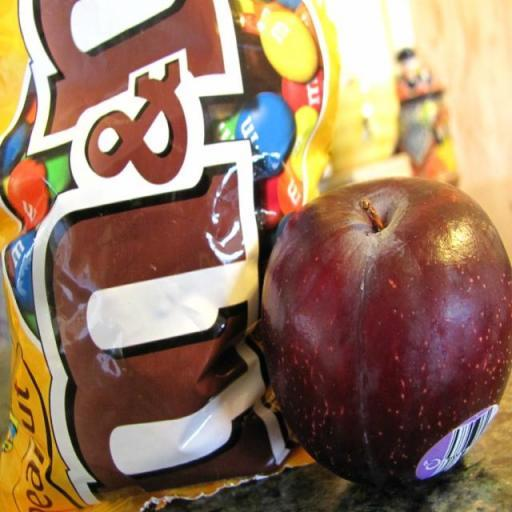fruit: (262, 179, 511, 483)
